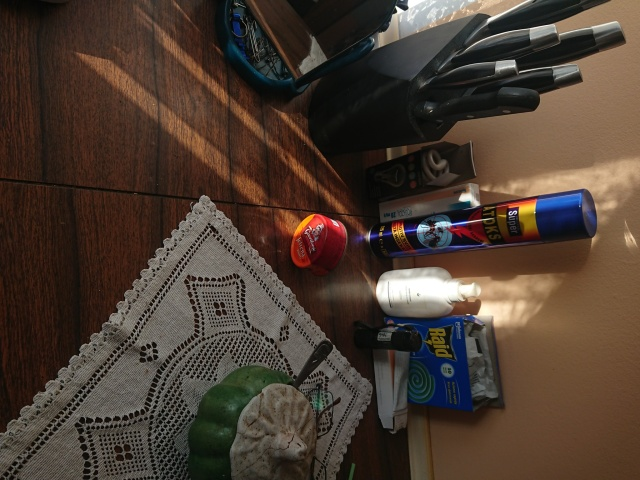Gavrilovic Pork Liver Pate 100g: (288, 211, 350, 279)
